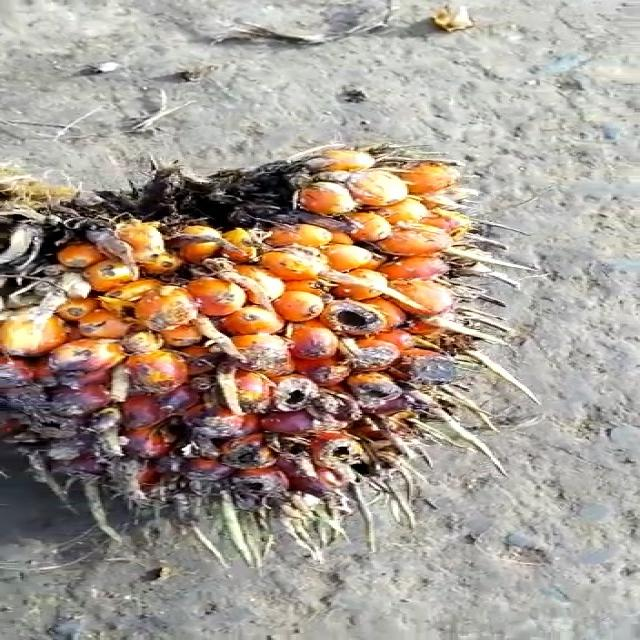palm oil: (0, 142, 490, 548)
